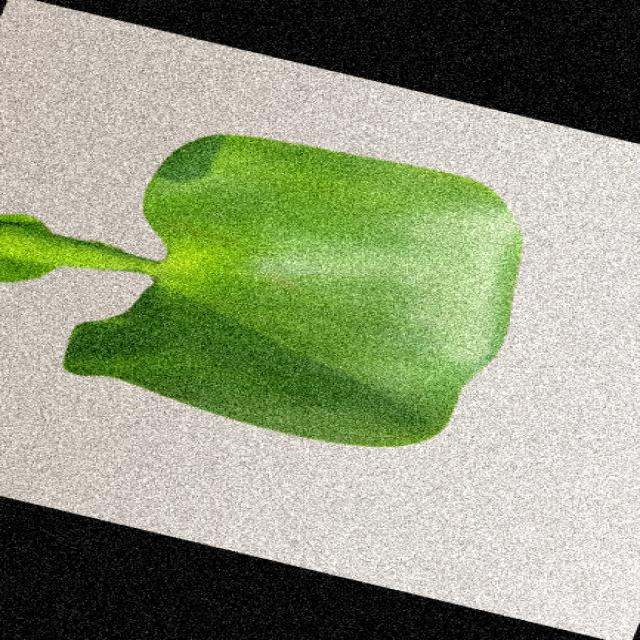daun sehat: (3, 135, 521, 446)
